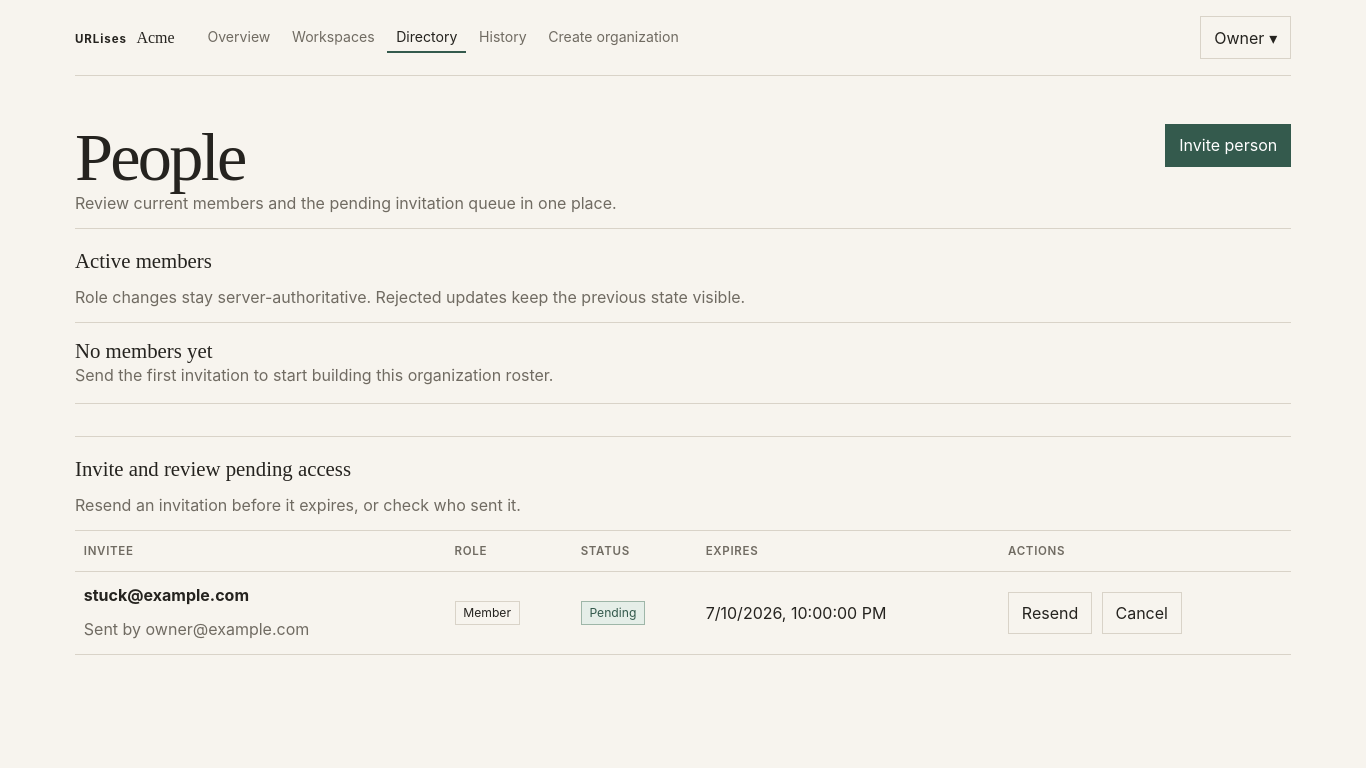
Scenario: members page › shows an error notice when resending an invitation fails
Expected: the text "stuck@example.com" is shown, [84, 584, 249, 604]
Click the button with aria-label "resend invitation to stuck@example.com" at (1050, 613), box [1008, 592, 1092, 634]
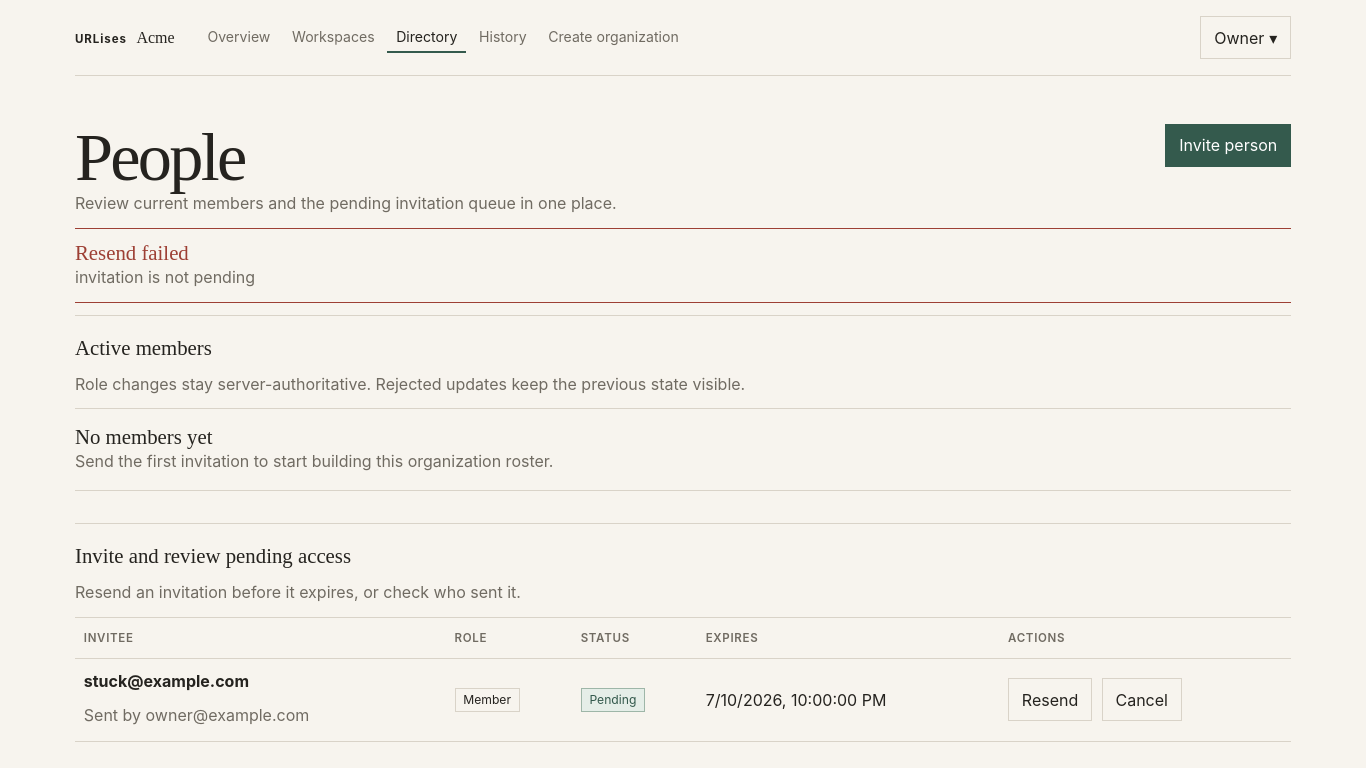
Result: the heading "Resend failed" is shown at [75, 241, 189, 264]
